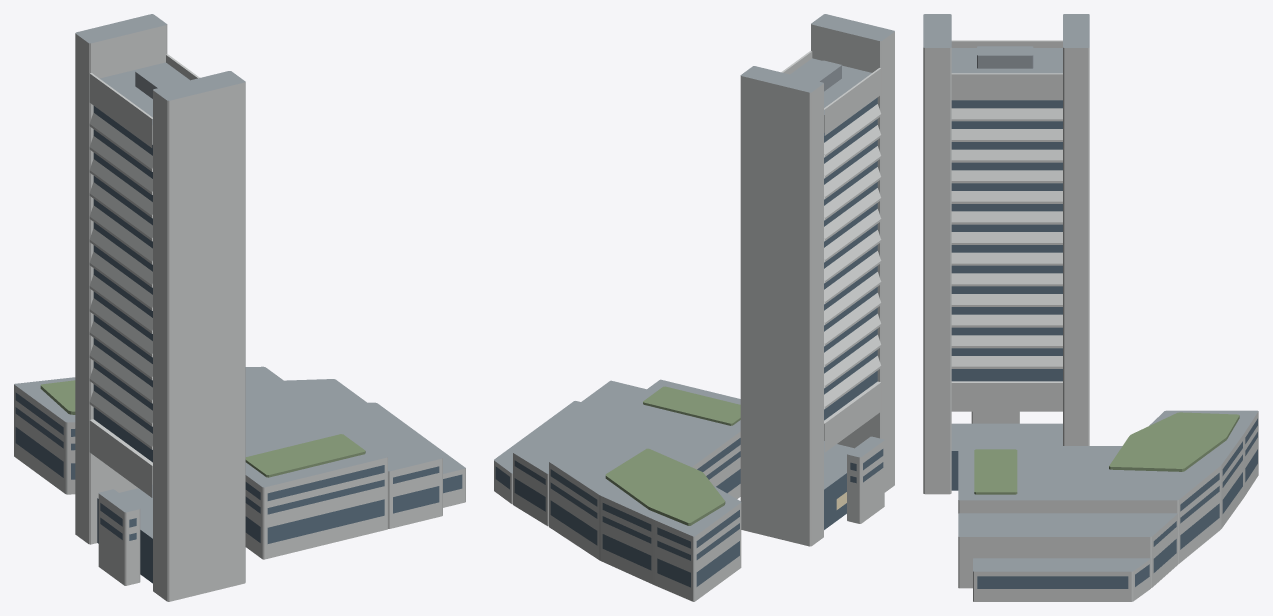
Rendered from bos-federal-reserve-bank.glb.
3 views of the same model, side by side, from view 1: azimuth 30°, elevation 25°; view 2: azimuth 150°, elevation 25°; view 3: azimuth 270°, elevation 25° (orthographic). The views are drawn at different scales.
Parts seen in each view (by area): view 1: Federal Reserve Bank of Boston; view 2: Federal Reserve Bank of Boston; view 3: Federal Reserve Bank of Boston.
Boxes of the visible parts, x1,y1,x2,y2 form: Federal Reserve Bank of Boston: (14,14,465,601); Federal Reserve Bank of Boston: (494,14,894,601); Federal Reserve Bank of Boston: (923,14,1258,601).
Bounding box in the file's own units: 131 × 183 × 125.
